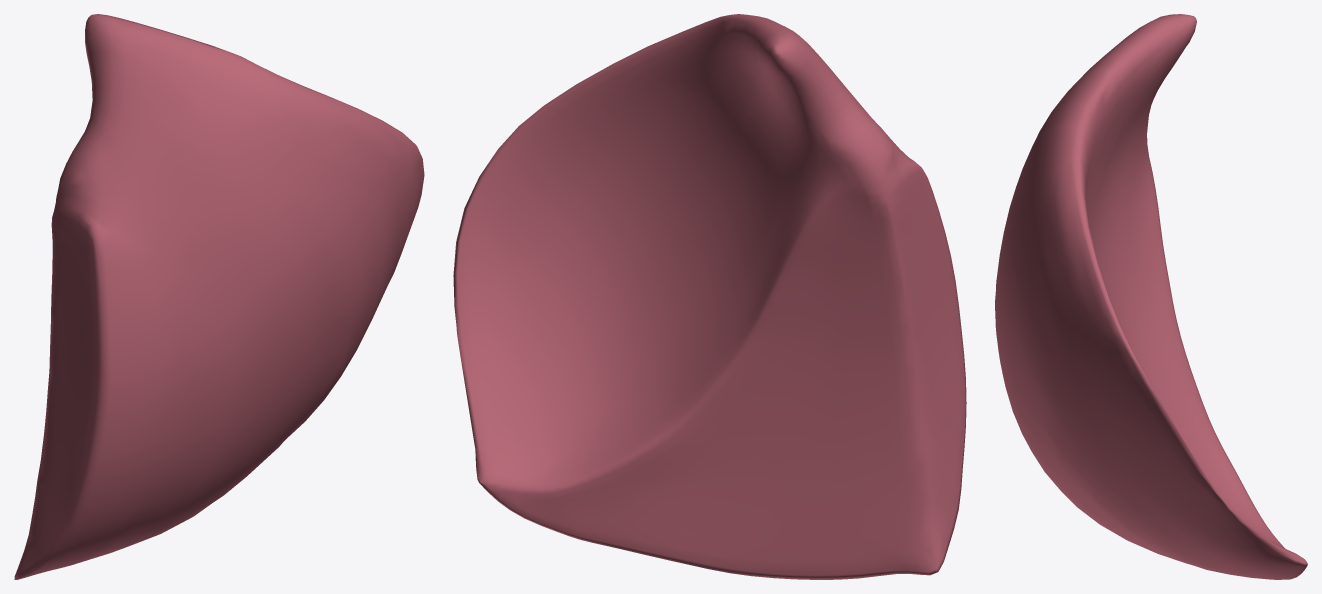
3 views of the same model, side by side, from view 1: azimuth 30°, elevation 25°; view 2: azimuth 150°, elevation 25°; view 3: azimuth 270°, elevation 25° (orthographic). The views are drawn at different scales.
Parts seen in each view (by area): view 1: 肝左外叶上段（第2段）; view 2: 肝左外叶上段（第2段）; view 3: 肝左外叶上段（第2段）.
Boxes of the visible parts, <box> form: 肝左外叶上段（第2段）: <box>14,14,424,579</box>; 肝左外叶上段（第2段）: <box>453,14,966,579</box>; 肝左外叶上段（第2段）: <box>995,14,1307,579</box>.
Bounding box in the file's own units: 0.1321 × 0.1522 × 0.0826.
